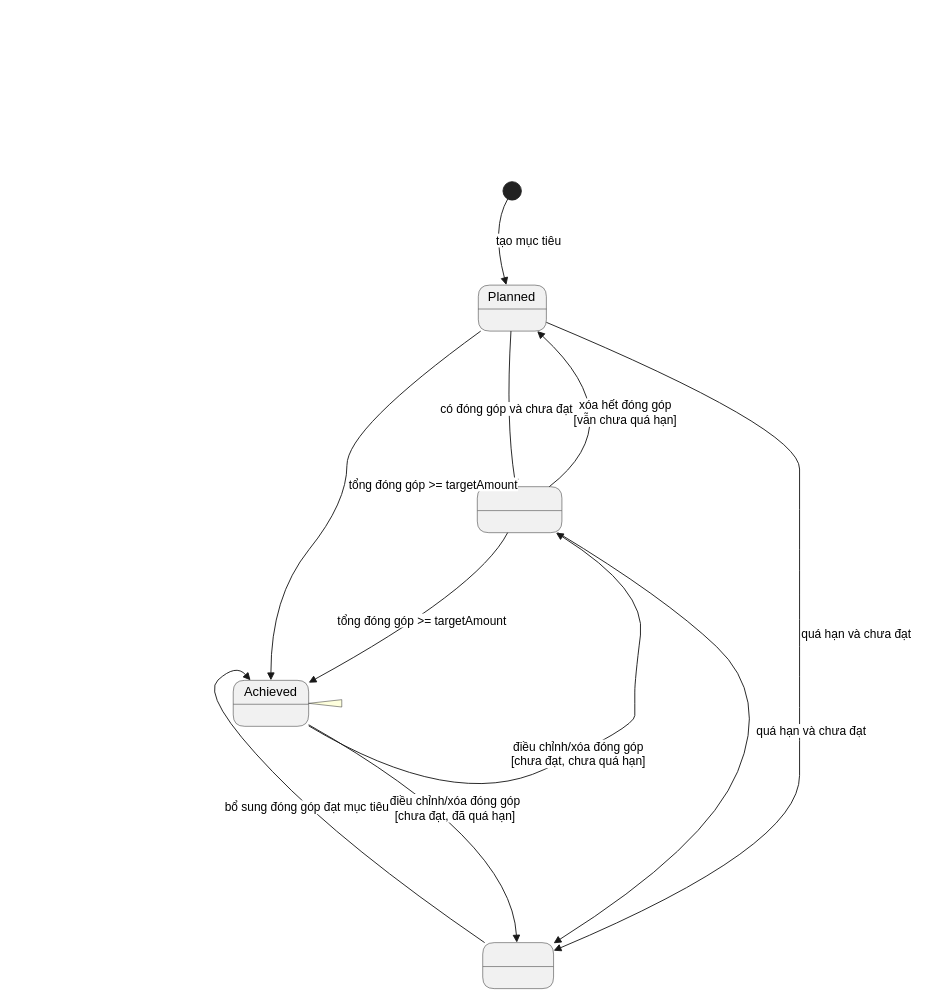
Image size: 926x1005. Some labels were removed from this diagram. The box of each missing label's shape, as (x1, y1, x2, y2) in pixels:
InProgress: (477, 486, 562, 532)
Overdue: (482, 942, 553, 988)
